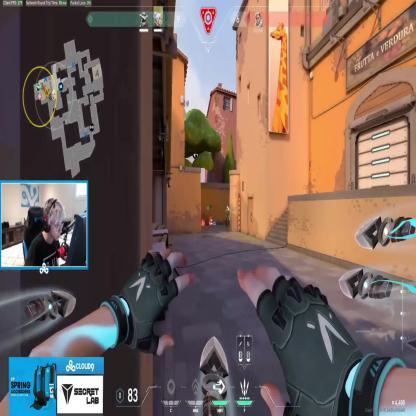enemy: (225, 206, 230, 228)
enemy_head: (226, 206, 228, 210)
